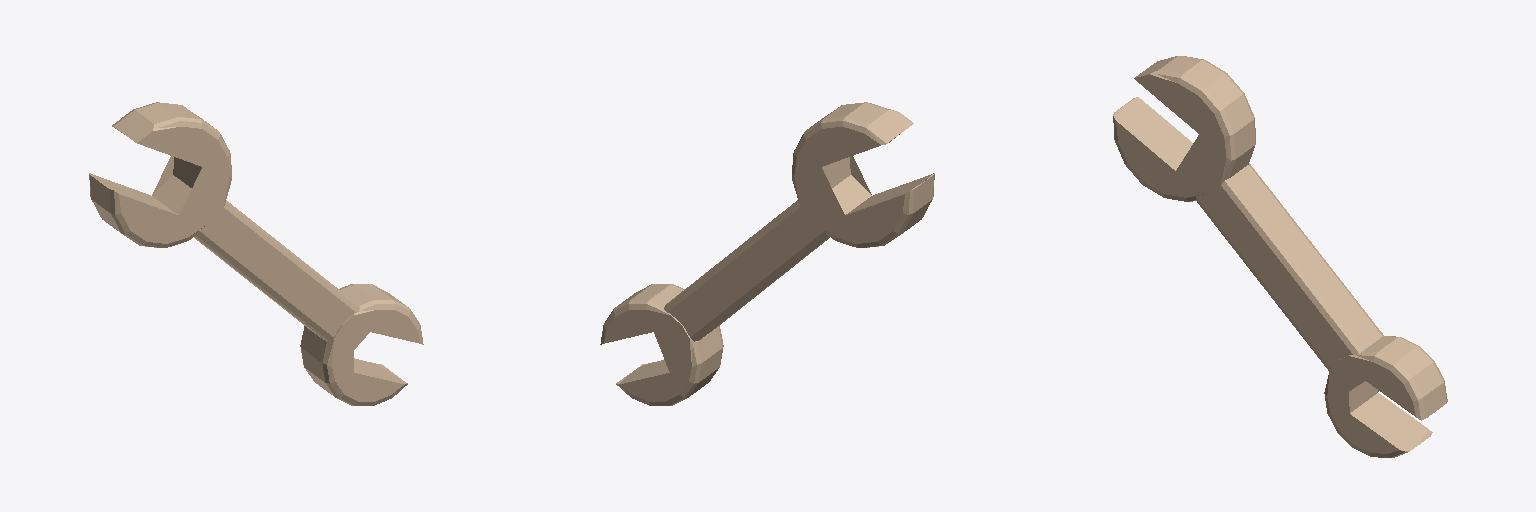
The model's file is llaveInglesa.obj.
3 renders of one model, left to right at view 1: azimuth 30°, elevation 25°; view 2: azimuth 150°, elevation 25°; view 3: azimuth 330°, elevation 25°, orthographic.
Parts seen in each view (by area): view 1: Cylinder5, Cube1, Cylinder5_copy6; view 2: Cylinder5, Cube1, Cylinder5_copy6; view 3: Cylinder5, Cube1, Cylinder5_copy6.
Boxes of the visible parts, box(x1,y1,x2,y2) form: Cylinder5: box(89, 102, 231, 247); Cube1: box(194, 200, 359, 341); Cylinder5_copy6: box(300, 284, 423, 405); Cylinder5: box(792, 102, 934, 247); Cube1: box(664, 200, 829, 341); Cylinder5_copy6: box(600, 284, 723, 405); Cylinder5: box(1113, 56, 1255, 201); Cube1: box(1196, 163, 1383, 370); Cylinder5_copy6: box(1324, 336, 1447, 457).
Bounding box in the file's own units: 5.08 × 5.21 × 0.8078.